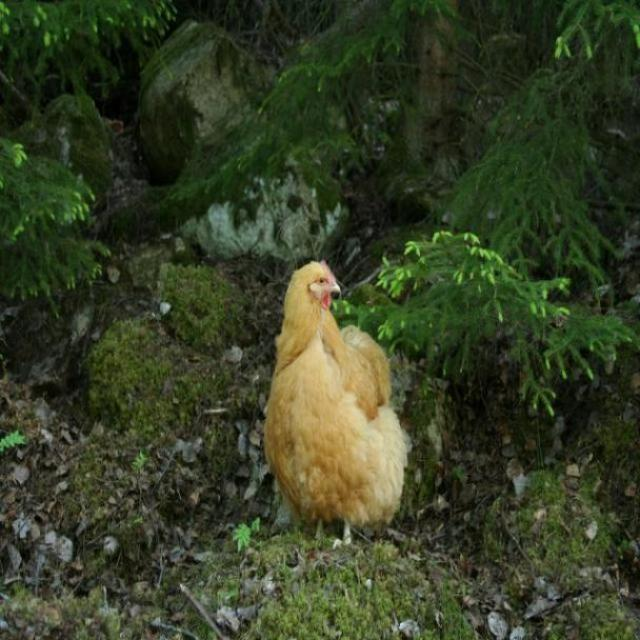Chicken: (263, 259, 411, 550)
